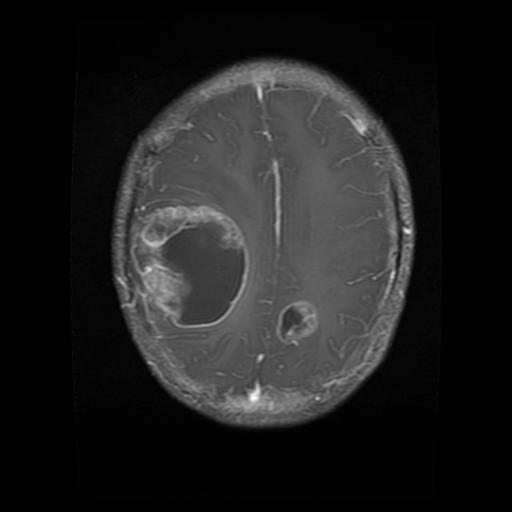Gliomia_tumour: (148, 211, 242, 322)
